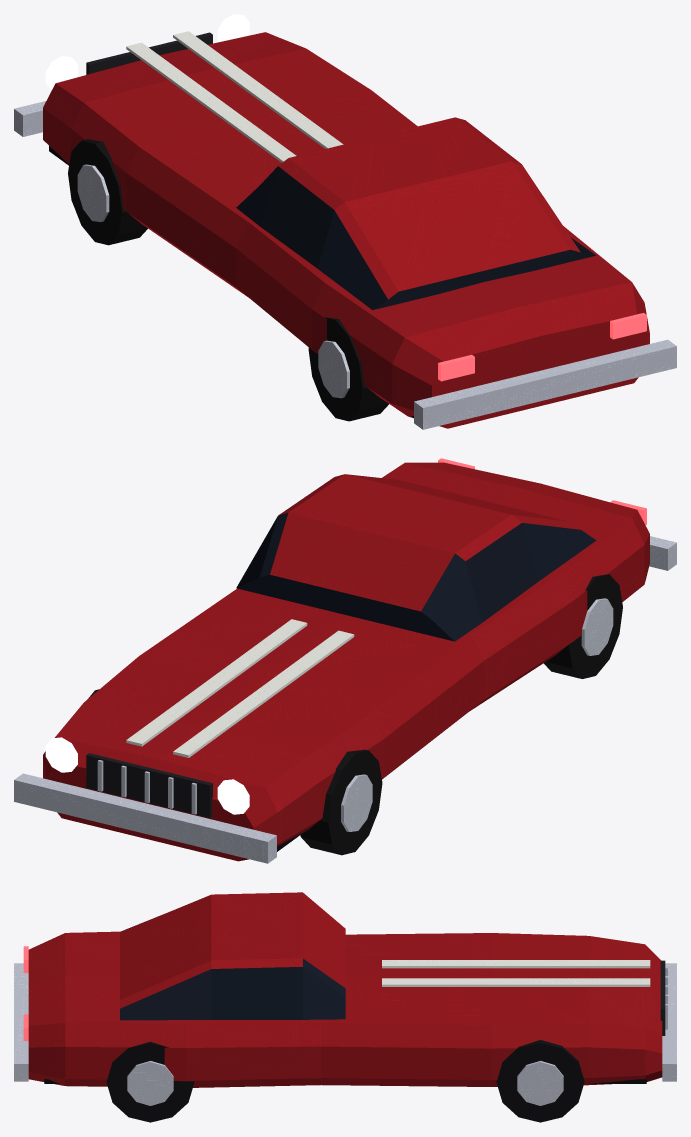
The model's file is car_coupe_crimson.glb.
The picture shows the model from 3 angles, top to bottom: view 1: azimuth 30°, elevation 25°; view 2: azimuth 150°, elevation 25°; view 3: azimuth 270°, elevation 25°; orthographic projection. The views are drawn at different scales.
Visible parts, largest first — view 1: car_coupe_crimson; view 2: car_coupe_crimson; view 3: car_coupe_crimson.
Part boxes in pixels (bbox=[...]): car_coupe_crimson: bbox=[14, 14, 676, 429]; car_coupe_crimson: bbox=[14, 458, 676, 863]; car_coupe_crimson: bbox=[14, 892, 676, 1122].
Bounding box in the file's own units: 2.05 × 1.32 × 5.44.
3 materials, 3 textured.
